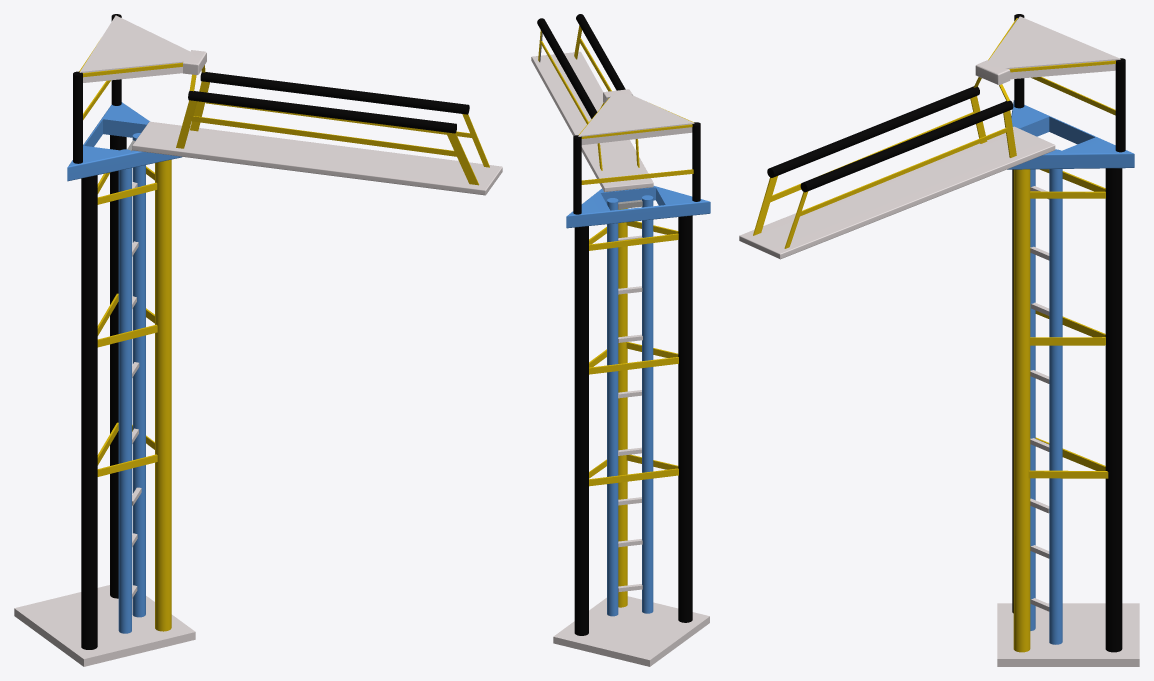
The model's file is crane_LOD0.fbx.
3 renders of one model, left to right at view 1: azimuth 30°, elevation 25°; view 2: azimuth 150°, elevation 25°; view 3: azimuth 270°, elevation 25°, orthographic. The views are drawn at different scales.
Parts seen in each view (by area): view 1: topPlatofrm2, corner3, corner2, outline, ladderRightPole, ladderLeftPole, sideGuard2, topGuard, corner1, sideGuard1, topPlatform, cornerGuard2; view 2: corner1, corner3, outline, topPlatofrm2, ladderRightPole, ladderLeftPole, topGuard, topPlatform, corner2, cornerGuard1, sideGuard1, sideGuard2 (+1 smaller); view 3: corner1, topPlatofrm2, corner2, outline, ladderLeftPole, topGuard, sideGuard1, topPlatform, sideGuard2, ladderRightPole, cornerGuard1, corner3.
Part boxes in pixels (x1,y1,x2,y2): topPlatofrm2: (132, 121, 502, 195); corner3: (81, 175, 157, 649); corner2: (155, 159, 171, 631); outline: (14, 585, 195, 666); ladderRightPole: (118, 149, 131, 633); ladderLeftPole: (132, 133, 145, 617); sideGuard2: (176, 74, 479, 185); topGuard: (79, 15, 206, 82); corner1: (97, 135, 154, 598); sideGuard1: (190, 65, 489, 167); topPlatform: (67, 102, 181, 181); cornerGuard2: (73, 62, 182, 163); corner1: (574, 226, 678, 635); corner3: (626, 215, 692, 622); outline: (553, 596, 709, 666); topPlatofrm2: (531, 51, 653, 191); ladderRightPole: (642, 195, 653, 613); ladderLeftPole: (607, 198, 618, 616); topGuard: (578, 89, 694, 144); topPlatform: (566, 186, 710, 228); corner2: (618, 208, 627, 607); cornerGuard1: (573, 98, 693, 214); sideGuard1: (537, 18, 603, 170); sideGuard2: (574, 14, 639, 167); corner1: (1028, 168, 1122, 652); topPlatofrm2: (739, 126, 1055, 259); corner2: (1013, 169, 1030, 652); outline: (997, 603, 1139, 666); ladderLeftPole: (1049, 149, 1062, 644); topGuard: (975, 16, 1120, 85); sideGuard1: (784, 84, 1016, 248); topPlatform: (1007, 100, 1134, 169); sideGuard2: (753, 77, 987, 235); ladderRightPole: (1030, 169, 1035, 630); cornerGuard1: (1009, 58, 1125, 152); corner3: (1012, 169, 1013, 613).
Size of the model in its own units: 22.55 by 39.23 by 23.8.
